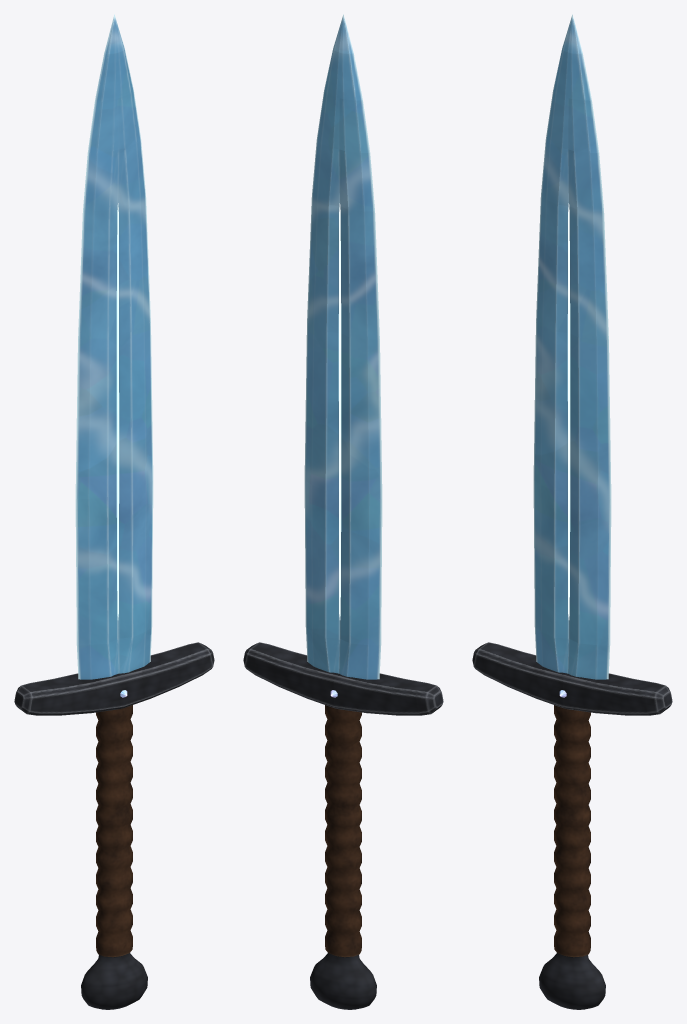
File: crystal-weapon-sword.glb
The picture shows the model from 3 angles, left to right: view 1: azimuth 30°, elevation 25°; view 2: azimuth 150°, elevation 25°; view 3: azimuth 330°, elevation 25°; orthographic projection.
Visible parts, largest first — view 1: blade, grip, guard, pommel, blade-core; view 2: blade, grip, guard, pommel, blade-core; view 3: blade, grip, guard, pommel, blade-core.
Part boxes in pixels (<box>): blade: <box>75,14,153,679</box>; grip: <box>96,705,132,957</box>; guard: <box>14,642,214,715</box>; pommel: <box>81,952,147,1009</box>; blade-core: <box>116,203,119,619</box>; blade: <box>304,14,382,679</box>; grip: <box>325,705,361,957</box>; guard: <box>243,642,443,715</box>; pommel: <box>310,952,376,1009</box>; blade-core: <box>338,203,341,619</box>; blade: <box>533,14,611,679</box>; grip: <box>554,705,590,957</box>; guard: <box>472,642,672,715</box>; pommel: <box>539,952,605,1009</box>; blade-core: <box>567,203,570,619</box>.
Bounding box in the file's own units: 0.3177 × 1.56 × 0.072.
6 materials, 6 textured.
